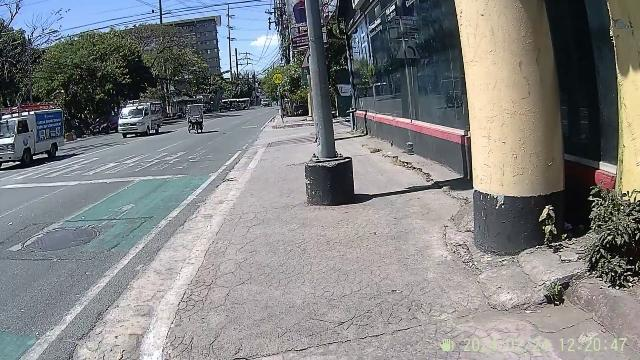utility_post: (453, 0, 569, 252), (300, 0, 356, 208), (235, 48, 255, 88)
